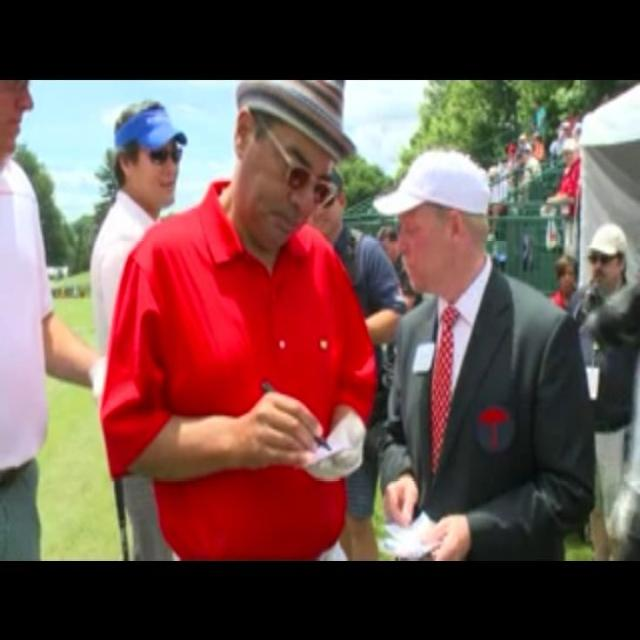cap: (376, 145, 493, 299), (109, 101, 192, 212), (586, 228, 631, 292)
hat: (232, 80, 358, 248)
